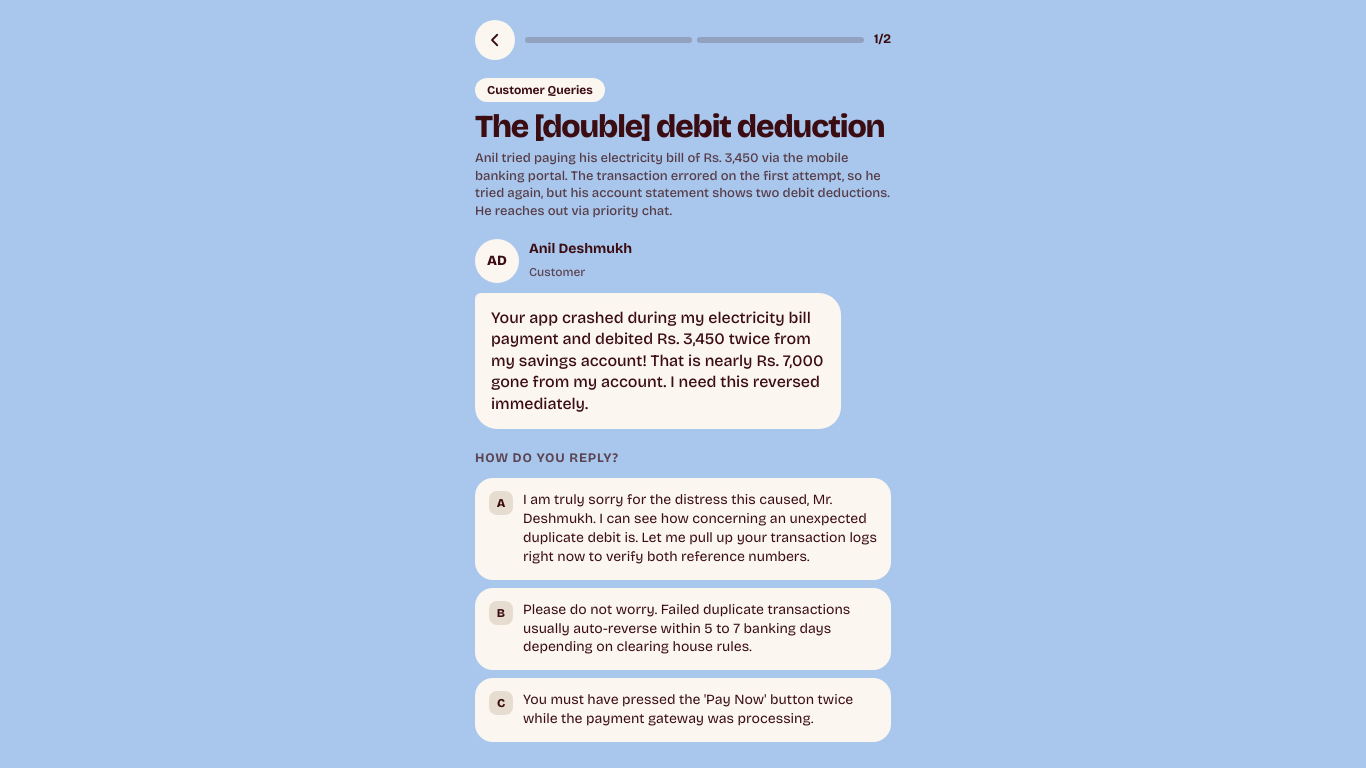
ScenarioPlayer › executes the full scenario flow through onStart, onAnswer, onFinish to result and replay
The width and height of the screenshot is (1366, 768).
Later steps or results of the test are not shown.
Expected: the text "Your app crashed during my electricity bill payment and debited Rs. 3,450 twice from my savings account! That is nearly " is shown, [491,308,823,413]
Click the button "I am truly sorry for the distress this caused, Mr. Deshmukh. I can see how concerning an unexpected duplicate debit is. ": (683, 529) [489,491,877,567]
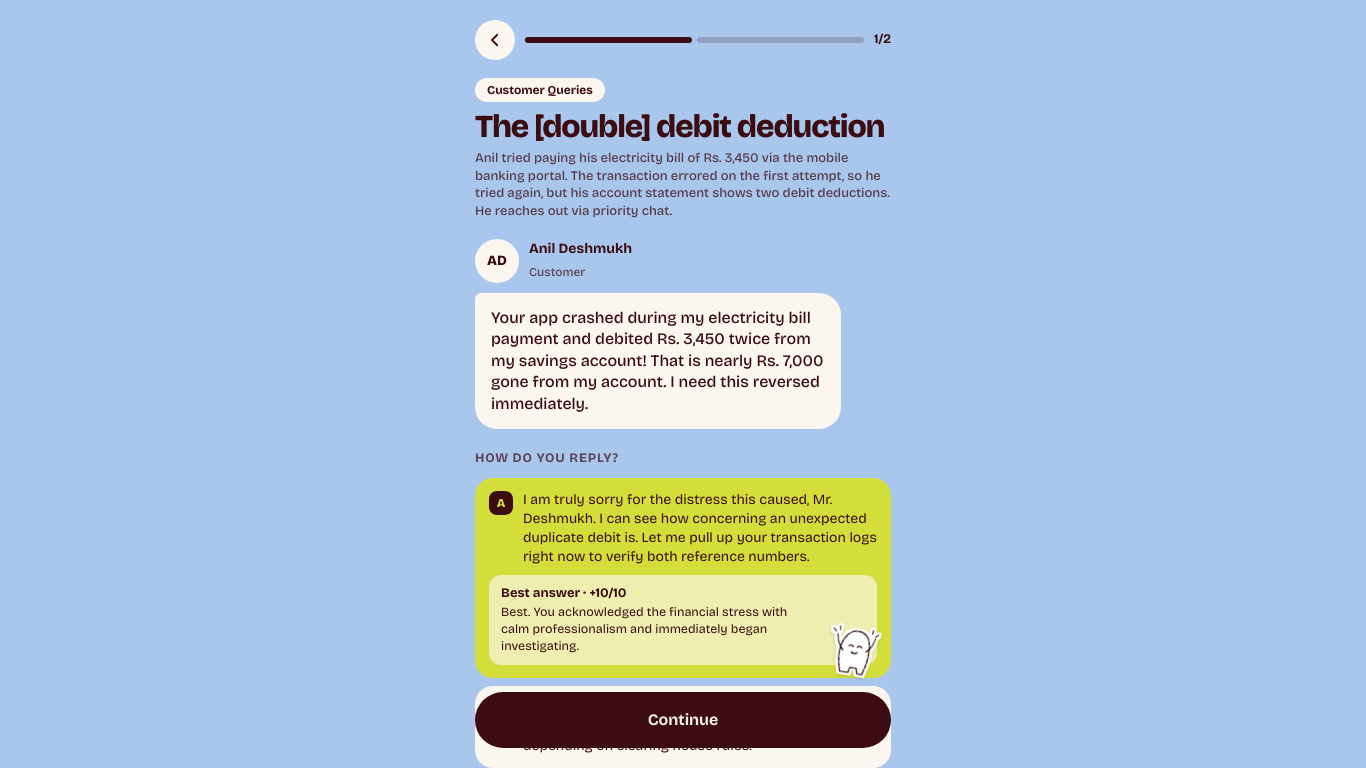
Result: the button "Continue" is shown
Click the button "Continue": (683, 720) [475,692,891,748]
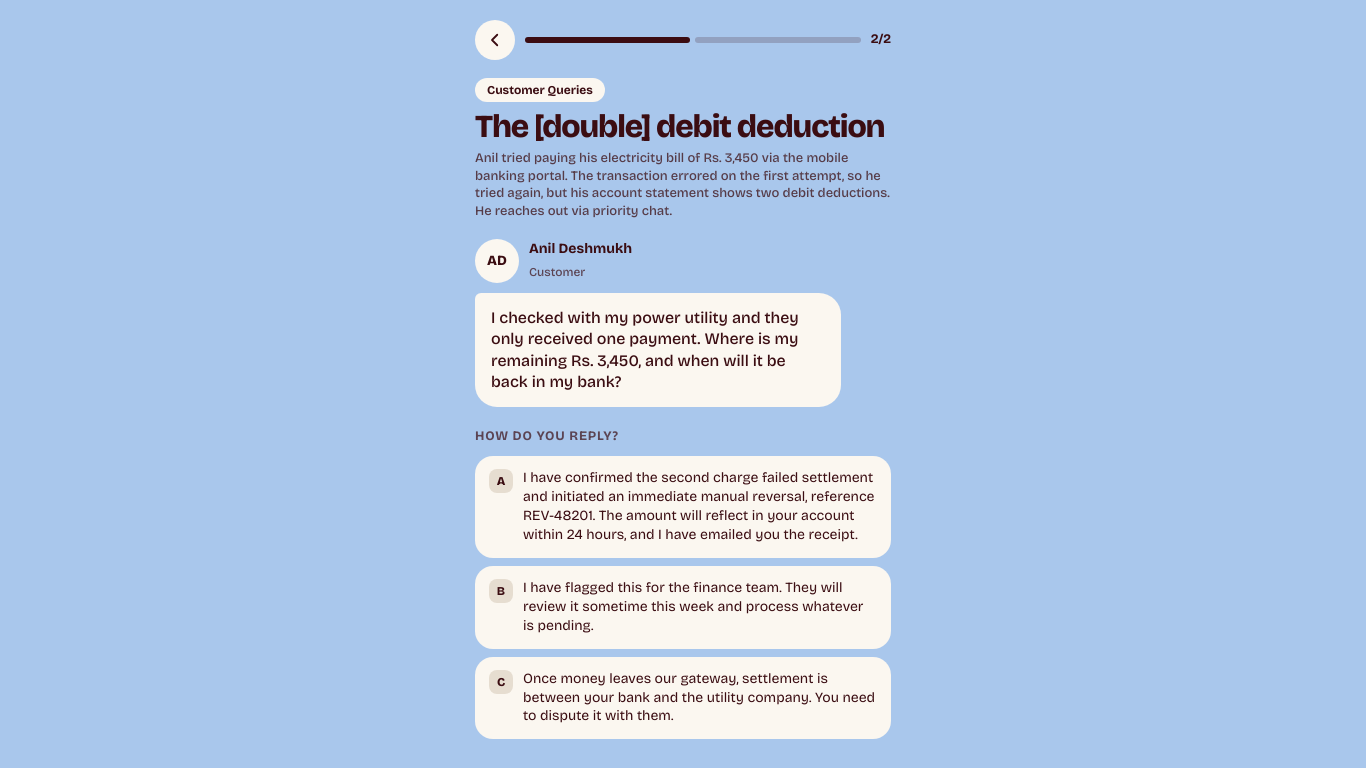
Result: the text "I checked with my power utility and they only received one payment. Where is my remaining Rs. 3,450, and when will it be" is shown at [491,308,799,391]
Result: the button "I have confirmed the second charge failed settlement and initiated an immediate manual reversal, reference REV-48201. Th" is shown
Click the button "I have confirmed the second charge failed settlement and initiated an immediate manual reversal, reference REV-48201. Th": (683, 507) [489,470,877,545]
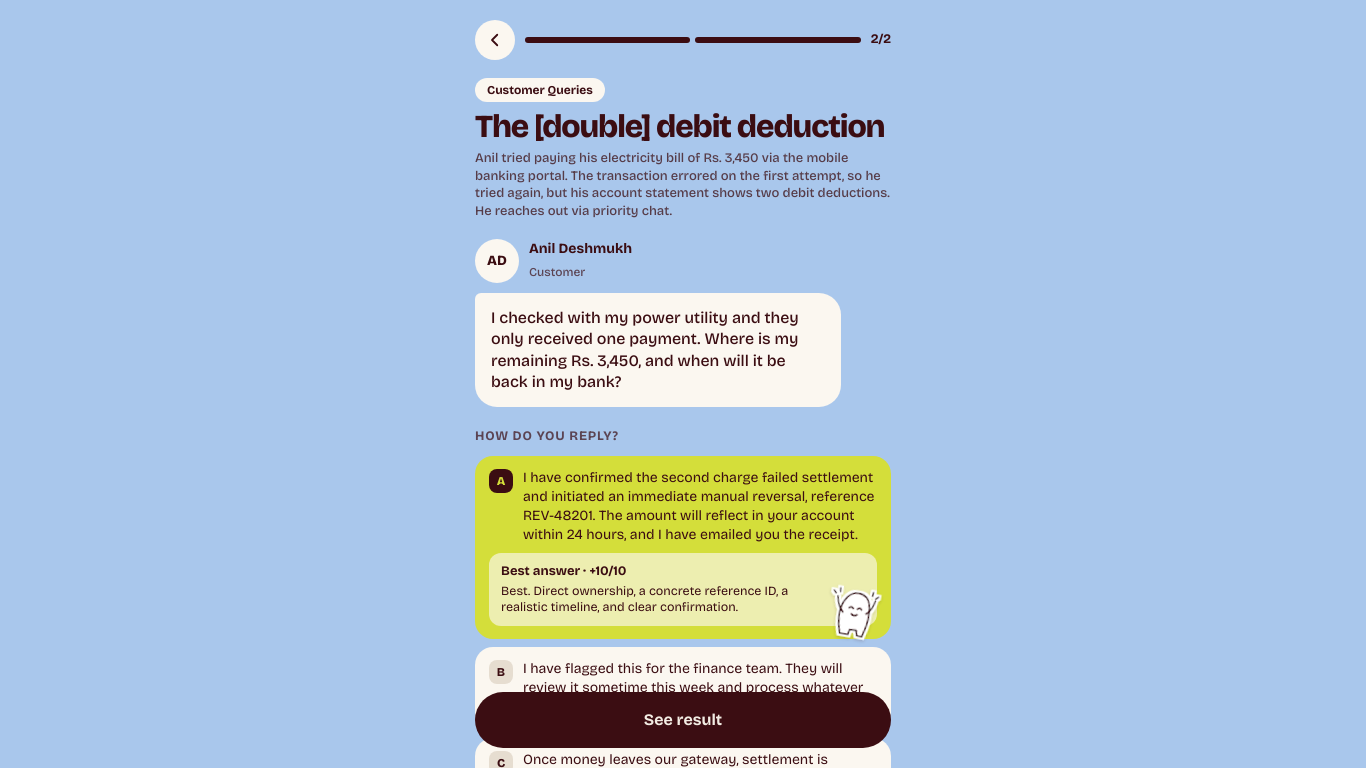
Result: the button "See result" is shown at [475,692,891,748]
